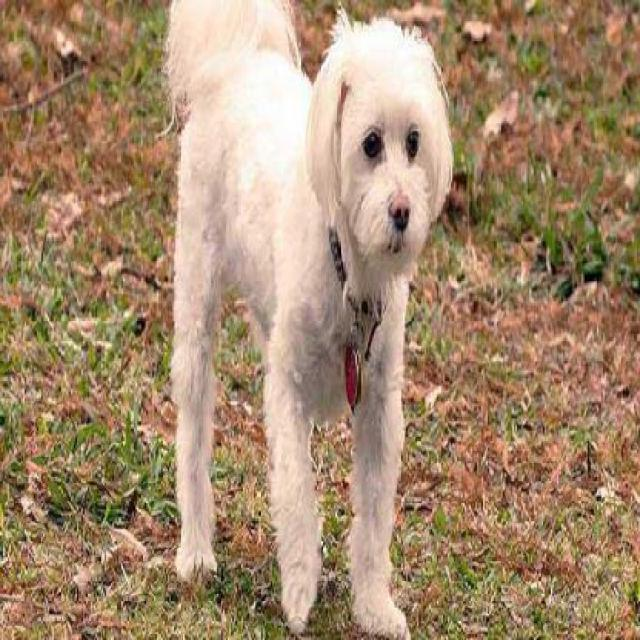Dog: (162, 0, 455, 638)
